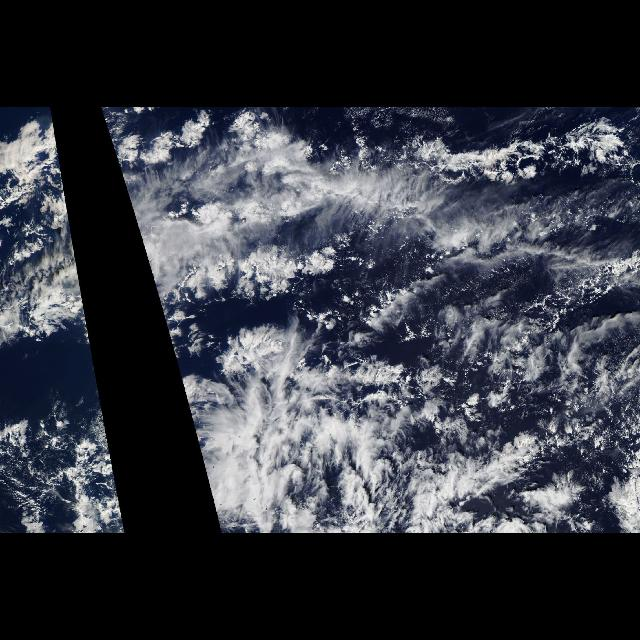Fish: (180, 321, 614, 534), (228, 120, 622, 304)
